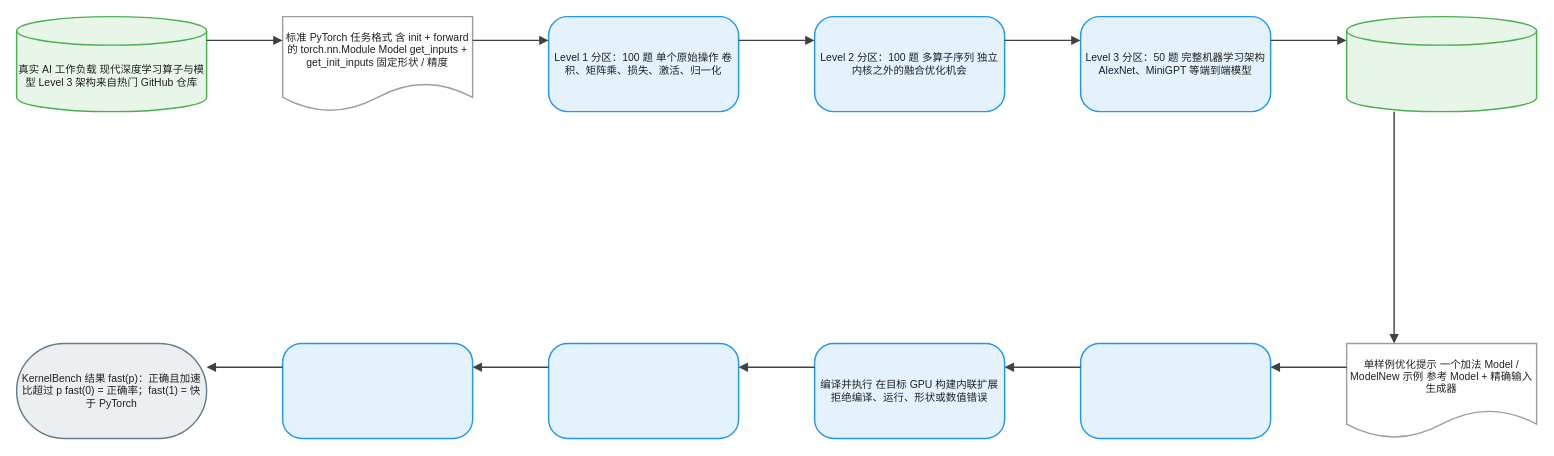
Image size: 1554x456. Some labels were removed from this diagram. The centre of each missing label's shape, as x and y in pixels:
"目标 GPU 计时 预热 3 次 + 100 次 CUDA Event 测量 平均加速比 = PyTorch Eager 时间 / ModelNew 时间" belongs at point (377, 390).
"论文基准：250 题 仅用于评测；不提供金标准内核 PyTorch 参考实现是真值与计时基线" belongs at point (1441, 63).
"贪心内核生成 返回带自定义优化的 ModelNew CUDA / PTX / CUTLASS / Triton 或其他库" belongs at point (1175, 390).
"随机正确性门控 比较 Model 与 ModelNew 输出 五组随机输入必须全部匹配" belongs at point (643, 390).
